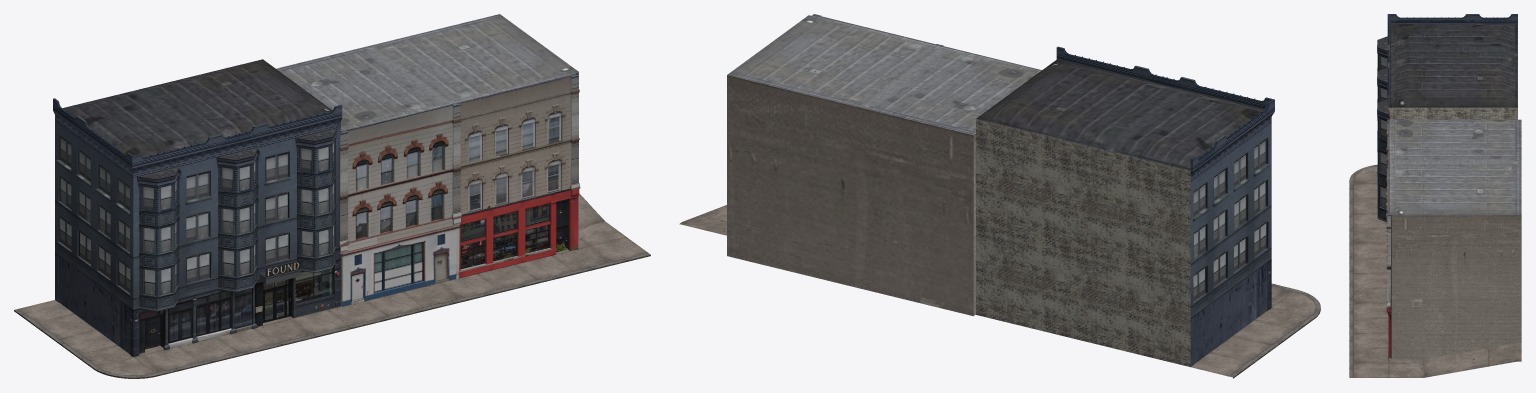
The model's file is realistic_chicago_buildings_b3.glb.
3 renders of one model, left to right at view 1: azimuth 30°, elevation 25°; view 2: azimuth 150°, elevation 25°; view 3: azimuth 270°, elevation 25°, orthographic. The views are drawn at different scales.
Parts seen in each view (by area): view 1: Object_6, Object_12, Object_4; view 2: Object_12, Object_8, Object_6, Object_4; view 3: Object_12, Object_6, Object_4, Object_8.
Part boxes in pixels (bbox=[...]): Object_6: bbox=[53, 59, 342, 356]; Object_12: bbox=[276, 14, 580, 306]; Object_4: bbox=[14, 193, 650, 378]; Object_12: bbox=[727, 14, 1041, 316]; Object_8: bbox=[976, 119, 1190, 366]; Object_6: bbox=[976, 46, 1274, 366]; Object_4: bbox=[679, 205, 1320, 378]; Object_12: bbox=[1386, 119, 1521, 359]; Object_6: bbox=[1377, 14, 1517, 221]; Object_4: bbox=[1349, 164, 1521, 377]; Object_8: bbox=[1388, 107, 1517, 119].
Size of the model in its own units: 198 by 71.86 by 67.26.
5 materials, 5 textured.
